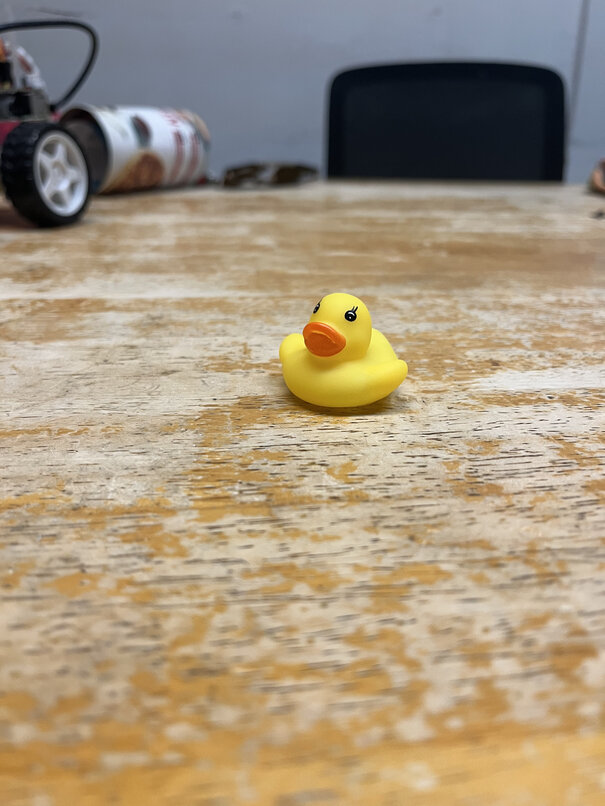duck_regular: (278, 290, 408, 411)
